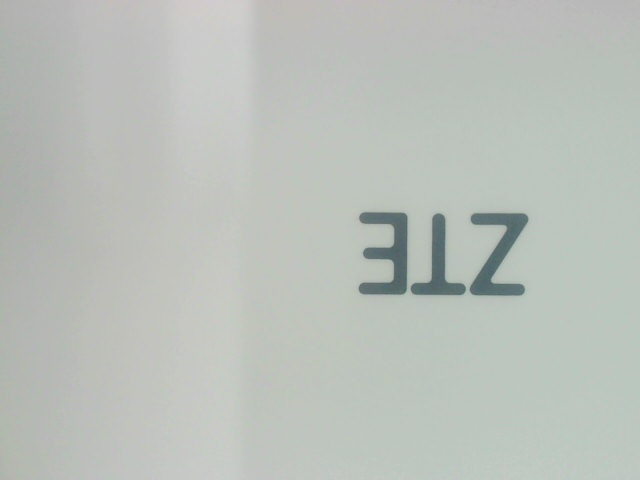AN_ZTELarge: (340, 192, 546, 304)
